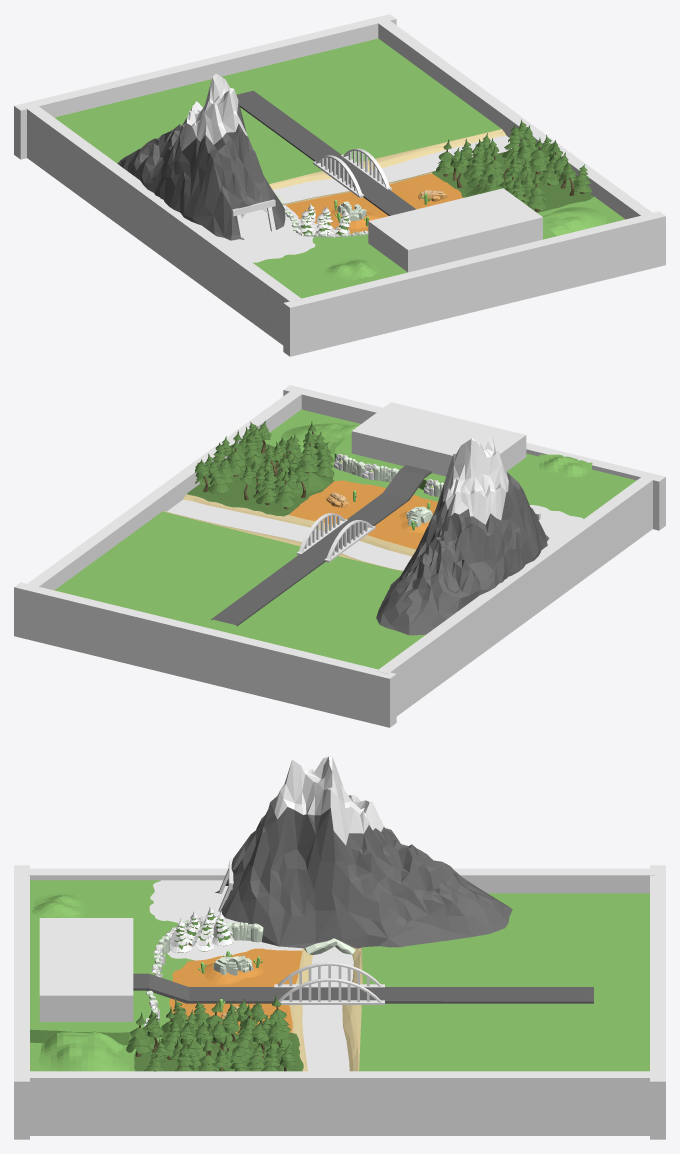
Rendered from SpelplanLiten.fbx.
3 renders of one model, top to bottom at view 1: azimuth 30°, elevation 25°; view 2: azimuth 150°, elevation 25°; view 3: azimuth 270°, elevation 25°, orthographic. The views are drawn at different scales.
Parts seen in each view (by area): view 1: Plane.043; view 2: Plane.043; view 3: Plane.043.
Boxes of the visible parts, x1,y1,x2,y2 form: Plane.043: (14, 14, 665, 356); Plane.043: (14, 385, 665, 727); Plane.043: (14, 756, 665, 1139).
Bounding box in the file's own units: 163 × 70.87 × 208.
